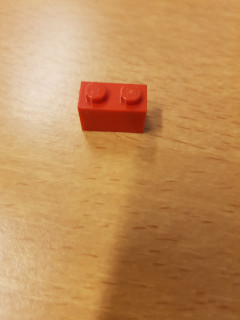1x2 red: (77, 79, 148, 135)
